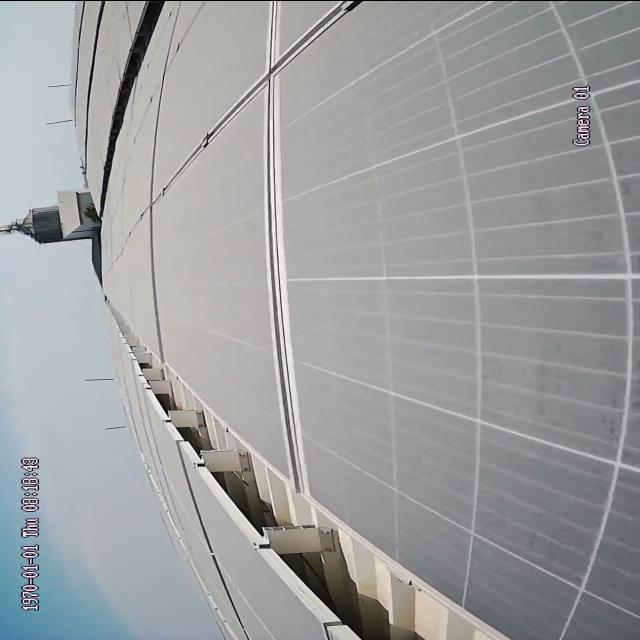interior panel: (159, 0, 372, 478)
outher panel: (98, 297, 497, 639), (99, 0, 167, 173)
